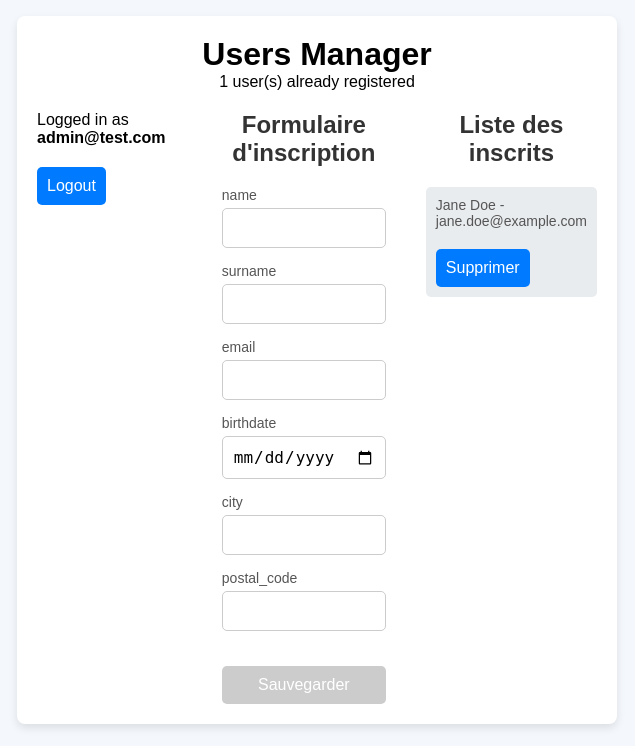
Test case: App Component › should delete a user and refresh the list
The image size is (635, 746).
Expected: the list item "Jane Doe - jane.doe@example.com Supprimer" is shown, [426,187,597,297]
Click the button "Supprimer" at (483, 268), box [436,249,530,287]
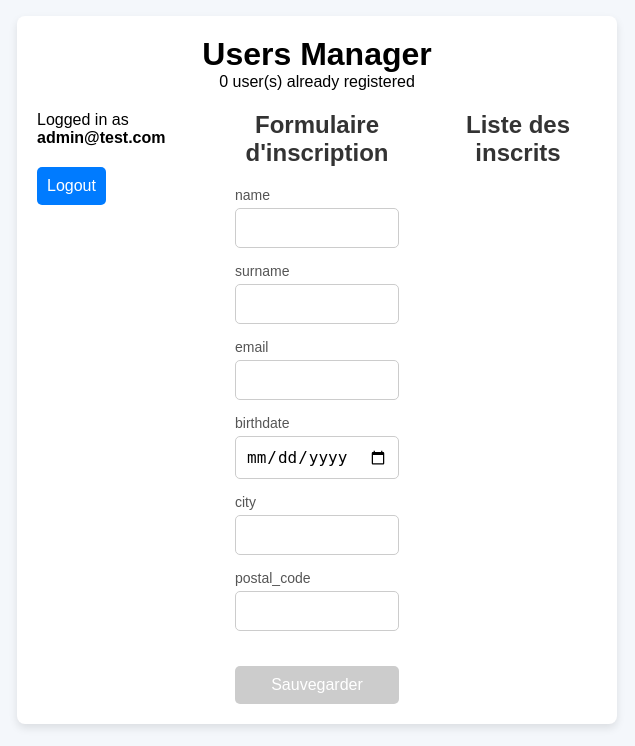
Result: the list item "Jane Doe" is gone
Result: the text "0 user(s) already registered" is shown at [219,73,415,91]
